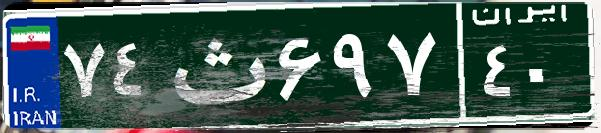0: (525, 38, 570, 115)
4: (475, 38, 525, 113), (110, 28, 158, 105)
6: (273, 28, 330, 110)
7: (385, 28, 445, 110), (57, 26, 110, 107)
9: (330, 28, 385, 110)
ث: (158, 15, 273, 115)
